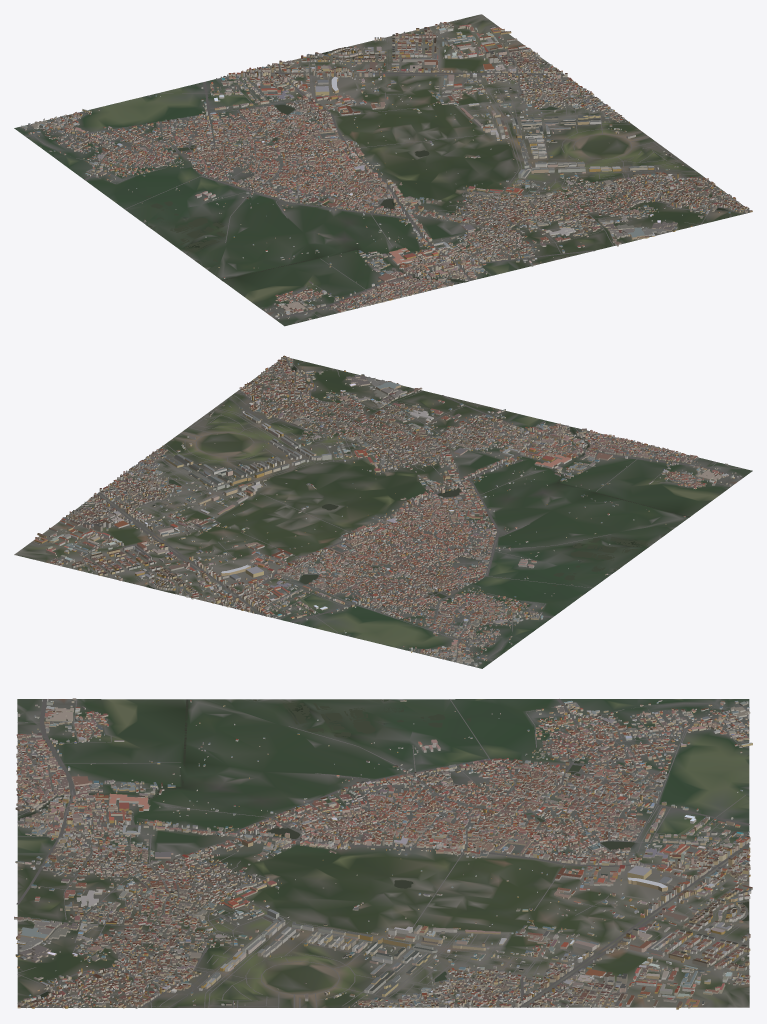
The picture shows the model from 3 angles, top to bottom: view 1: azimuth 30°, elevation 25°; view 2: azimuth 150°, elevation 25°; view 3: azimuth 270°, elevation 25°; orthographic projection. The views are drawn at different scales.
Visible parts, largest first — view 1: ground, buildings, roads, water; view 2: ground, buildings, roads, water; view 3: ground, buildings, roads, water.
Boxes of the visible parts, box(x1,y1,x2,y2) form: ground: box(14, 14, 750, 326); buildings: box(21, 22, 752, 319); roads: box(20, 27, 749, 319); water: box(146, 46, 727, 281); ground: box(14, 357, 752, 668); buildings: box(34, 355, 741, 666); roads: box(66, 358, 743, 667); water: box(146, 366, 689, 599); ground: box(17, 699, 749, 1007); buildings: box(14, 698, 752, 1009); roads: box(16, 699, 749, 1007); water: box(18, 699, 748, 997).
Bounding box in the file's own units: 2818 × 33.18 × 2831.
